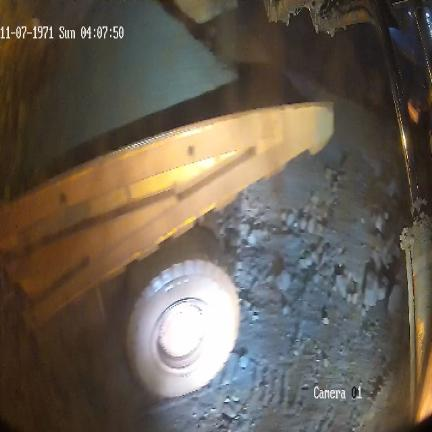pile: (209, 102, 409, 341), (20, 1, 249, 193)
